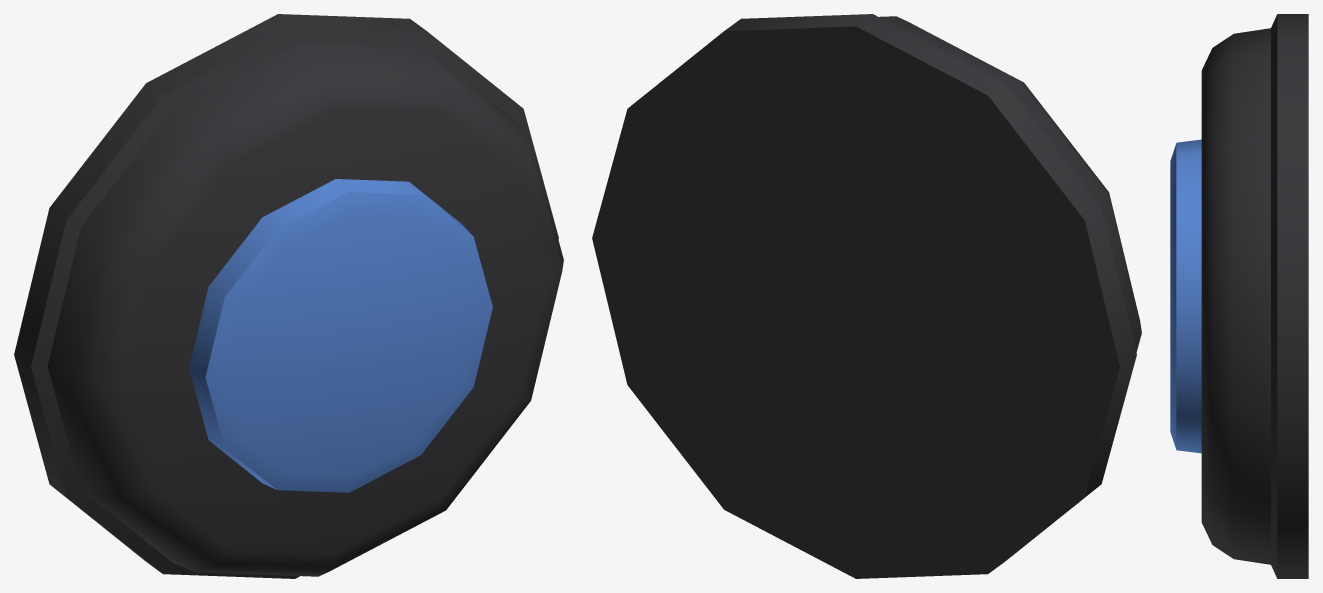
Rendered from clutch_lod1.glb.
The picture shows the model from 3 angles, left to right: view 1: azimuth 30°, elevation 25°; view 2: azimuth 150°, elevation 25°; view 3: azimuth 270°, elevation 25°; orthographic projection. The views are drawn at different scales.
Parts seen in each view (by area): view 1: clutch_lod1; view 2: clutch_lod1; view 3: clutch_lod1.
Part boxes in pixels (x1,y1,x2,y2): clutch_lod1: (14, 14, 563, 578); clutch_lod1: (592, 14, 1141, 578); clutch_lod1: (1170, 14, 1308, 578).
Size of the model in its own units: 0.18 by 0.18 by 0.044.
